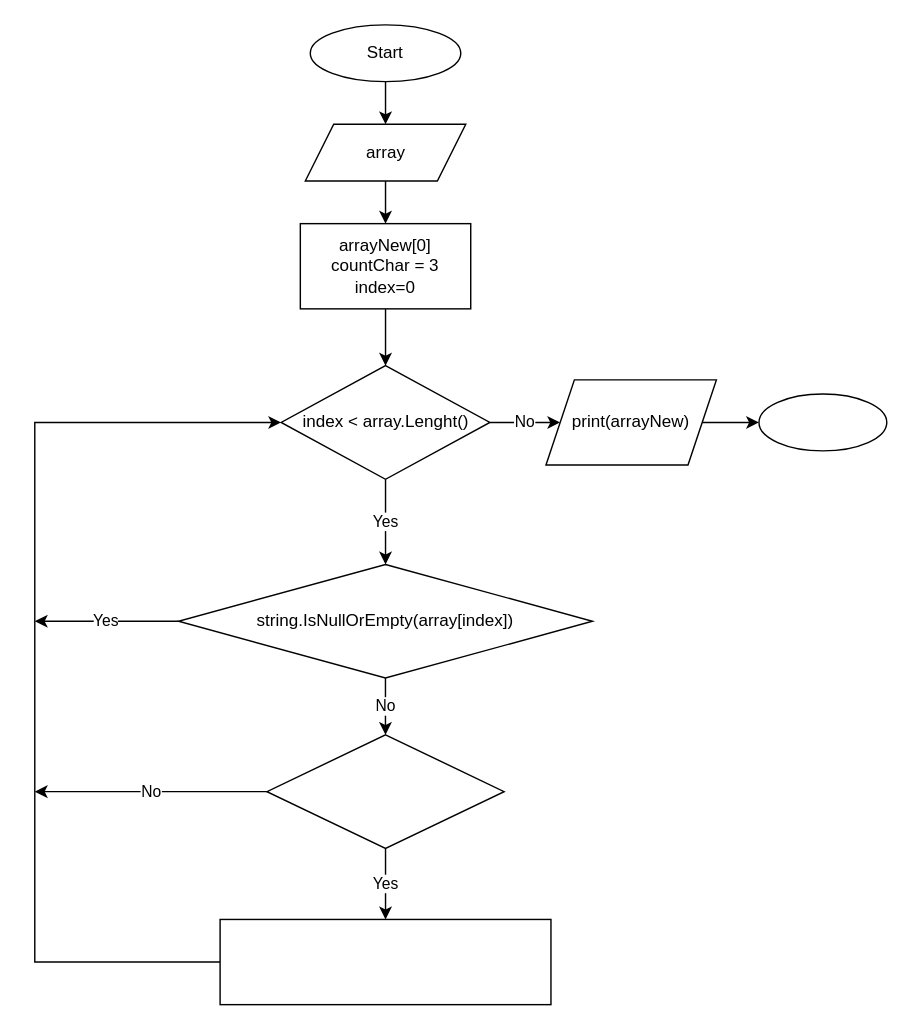
Some shapes in this 912 by 1030 pixel diagram are drawn without their labels. Here are the shapes that lost their labels. From the top down, the box of each, then its label:
(758, 393, 887, 451): End
(266, 733, 504, 848): array[index] < countChar
(219, 918, 551, 1005): AddToArray(arrayNew, array[index])
